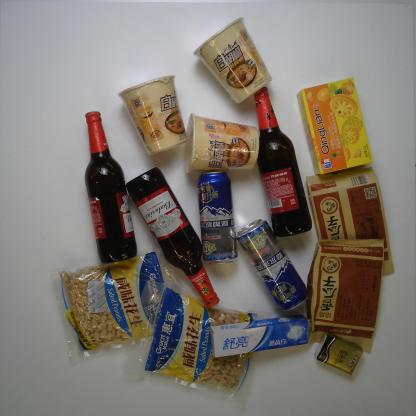Alcohol: (127, 165, 221, 310), (254, 85, 314, 238), (83, 110, 138, 264), (235, 217, 310, 313), (196, 168, 239, 266)
Dessert: (296, 75, 375, 176)
Dried Food: (305, 167, 395, 278), (305, 237, 387, 356)
Dried Fruit: (122, 280, 271, 402), (50, 245, 191, 363)
Instant Noodles: (192, 17, 274, 104), (117, 74, 189, 156), (182, 112, 261, 174)
Personal Hygiene: (209, 313, 310, 359)
Tissue: (314, 331, 364, 376)
